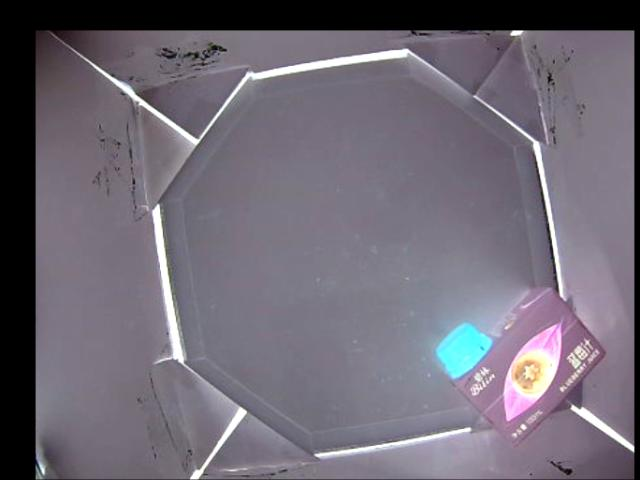Bottle: (441, 286, 603, 432)
